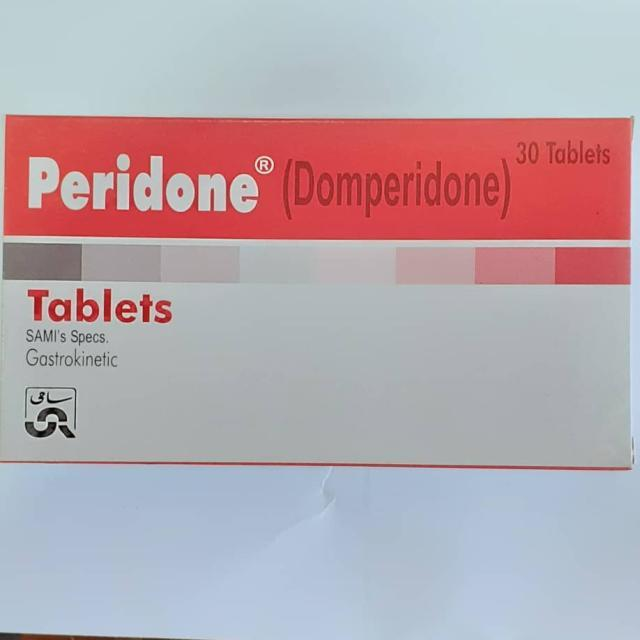drug-name: (22, 154, 259, 218)
